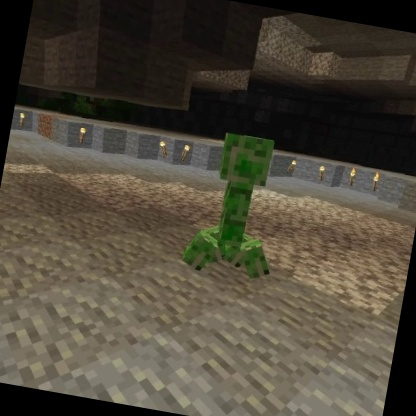creeper: (175, 122, 297, 287)
